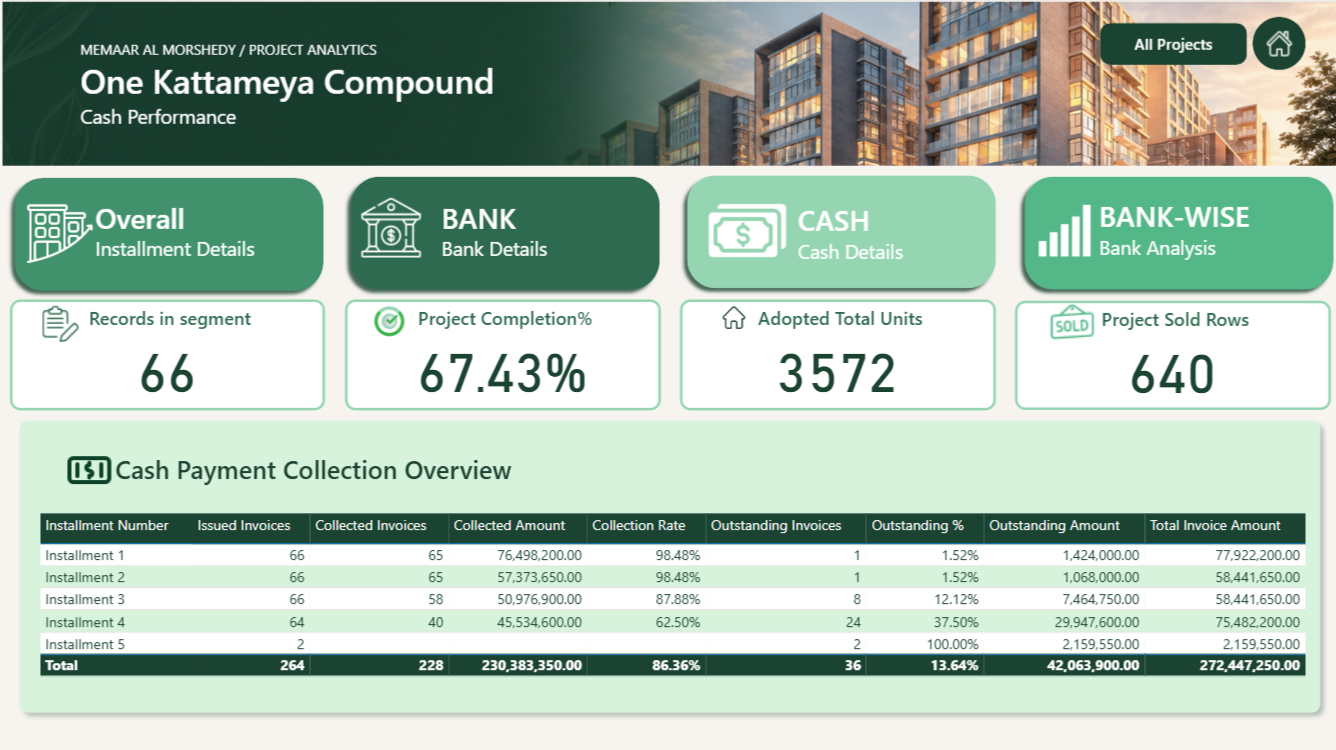

Layout of this report page (visuals, bound fields, positions):
{"tool":"powerbi","page":{"name":"Rihana Overall","canvas":[1280,720],"ordinal":8},"visuals":[{"type":"image","box":[0,0,1280.3,166],"z":0},{"type":"actionButton","box":[969.9,163.3,310.1,123.5],"z":0,"group":"g12"},{"type":"card","title":"Records in segment","fields":{"Values":["Fact_Installment.Records in current segment"]},"box":[12.3,288.2,300,105.7],"z":0,"group":"g1"},{"type":"shape","box":[11.9,403.6,1257.1,316.7],"z":0,"group":"g7"},{"type":"textbox","box":[74.1,35.7,548.9,96.1],"z":1000},{"type":"actionButton","box":[649.3,161.9,310.1,123.5],"z":1000,"group":"g11"},{"type":"image","box":[341.6,178.4,66.7,82.3],"z":1000,"group":"g4"},{"type":"image","box":[667.8,178.5,92.7,87.8],"z":1000,"group":"g6"},{"type":"image","box":[981.9,191.9,70,63.1],"z":1000,"group":"g9"},{"type":"image","box":[38.4,289.6,43.9,43.9],"z":1000,"group":"g1"},{"type":"tableEx","fields":{"Values":["Fact_Installment.Installment Number","Fact_Installment.Issued Invoices","Fact_Installment.Collected Invoices","Fact_Installment.Collected Amount","Fact_Installment.Collection Rate","Fact_Installment.Outstanding Invoices","Fact_Installment.Outstanding %","Fact_Installment.Total Invoice Amount"]},"box":[35.8,485.1,1217.9,221.4],"z":1000,"group":"g7"},{"type":"actionButton","title":"Back to Home","box":[1195.2,19.2,50.8,50.8],"z":2000},{"type":"actionButton","box":[8.2,164.7,310.1,123.5],"z":2000,"group":"g8"},{"type":"textbox","box":[1043.9,185.9,156.4,75.5],"z":2000,"group":"g9"},{"type":"textbox","box":[418,186.6,125.9,82.3],"z":2000,"group":"g4"},{"type":"textbox","box":[87.8,188.3,170.2,76.8],"z":2000,"group":"g13"},{"type":"textbox","box":[757,188.8,119.4,71.4],"z":2000,"group":"g6"},{"type":"textbox","box":[124,434.3,395.3,49],"z":2000,"group":"g7"},{"type":"shape","box":[1049.7,24.7,140,39.8],"z":3000},{"type":"actionButton","box":[328.8,163.3,310.1,123.5],"z":3000,"group":"g10"},{"type":"image","box":[62.2,411.6,57.6,84.1],"z":3000,"group":"g7"},{"type":"group","id":"g1","title":"Group 4","box":[12.3,288.2,300,105.7],"z":4000},{"type":"card","title":"Project Completion%","fields":{"Values":["Fact_Installment.Project Completion %"]},"box":[330.8,288.2,300.5,105.7],"z":4000,"group":"g2"},{"type":"group","id":"g2","title":"Group 5","box":[330.8,288.2,300.5,105.7],"z":5000},{"type":"card","title":"Project Sold Rows","fields":{"Values":["Fact_Installment.Total Sold Units"]},"box":[968.8,289.5,300.5,104.3],"z":5000,"group":"g5"},{"type":"group","id":"g3","title":"Group 6","box":[649.8,285.4,300.5,108.4],"z":6000},{"type":"card","title":"Adopted Total Units","fields":{"Values":["Fact_Installment.Total Units"]},"box":[649.8,288.1,300.5,105.7],"z":6000,"group":"g3"},{"type":"group","id":"g4","title":"Group 1","box":[341.6,178.4,202.4,90.6],"z":7000,"group":"g10"},{"type":"group","id":"g5","title":"Group 7","box":[968.8,285.4,300.5,108.4],"z":7000},{"type":"image","box":[348.5,289.6,48,39.8],"z":7020,"group":"g2"},{"type":"image","box":[997.6,285.4,52.1,52.1],"z":7022,"group":"g5"},{"type":"image","box":[686.1,285.4,31.6,39.8],"z":7023,"group":"g3"},{"type":"group","id":"g6","title":"Group 2","box":[667.8,178.5,208.6,87.8],"z":8000,"group":"g11"},{"type":"group","id":"g7","title":"Group 8","box":[11.9,403.6,1257.1,316.7],"z":8000},{"type":"group","id":"g8","title":"Group 11","box":[8.2,164.7,310.1,123.5],"z":9000},{"type":"group","id":"g9","title":"Group 3","box":[981.9,185.9,218.4,75.5],"z":9000,"group":"g12"},{"type":"group","id":"g10","title":"Group 12","box":[328.8,163.3,310.1,123.5],"z":10000},{"type":"group","id":"g11","title":"Group 13","box":[649.3,161.9,310.1,123.5],"z":11000},{"type":"group","id":"g12","title":"Group 14","box":[969.9,163.3,310.1,123.5],"z":12000},{"type":"group","id":"g13","title":"Group 1","box":[87.8,188.3,170.2,76.8],"z":12000,"group":"g14"},{"type":"image","box":[20.2,166.4,78.5,119.4],"z":13000,"group":"g14"},{"type":"group","id":"g14","title":"Group 10","box":[20.2,166.4,237.8,119.4],"z":13002,"group":"g15"},{"type":"group","id":"g15","title":"Group 9","box":[20.2,166.4,237.8,119.4],"z":16000,"group":"g8"}]}

Visuals, with their boxes in screenshot pixels (x1, y1, x2, y2), scaled from the page's 1280x720 canvas onto the 1336x750 screenshot:
image: l=0, t=0, r=1335, b=173
actionButton: l=1012, t=170, r=1335, b=299
"Records in segment" card: l=13, t=300, r=326, b=410
shape: l=12, t=420, r=1325, b=749
textbox: l=77, t=37, r=650, b=137
actionButton: l=678, t=169, r=1001, b=297
image: l=357, t=186, r=426, b=272
image: l=697, t=186, r=794, b=277
image: l=1025, t=200, r=1098, b=266
image: l=40, t=302, r=86, b=347
tableEx - Fact_Installment.Installment Number x Fact_Installment.Issued Invoices: l=37, t=505, r=1309, b=736
"Back to Home" actionButton: l=1247, t=20, r=1301, b=73
actionButton: l=9, t=172, r=332, b=300
textbox: l=1090, t=194, r=1253, b=272
textbox: l=436, t=194, r=568, b=280
textbox: l=92, t=196, r=269, b=276
textbox: l=790, t=197, r=915, b=271
textbox: l=129, t=452, r=542, b=503
shape: l=1096, t=26, r=1242, b=67
actionButton: l=343, t=170, r=667, b=299
image: l=65, t=429, r=125, b=516
"Group 4" group: l=13, t=300, r=326, b=410
"Project Completion%" card: l=345, t=300, r=659, b=410
"Group 5" group: l=345, t=300, r=659, b=410
"Project Sold Rows" card: l=1011, t=302, r=1325, b=410
"Group 6" group: l=678, t=297, r=992, b=410
"Adopted Total Units" card: l=678, t=300, r=992, b=410
"Group 1" group: l=357, t=186, r=568, b=280
"Group 7" group: l=1011, t=297, r=1325, b=410
image: l=364, t=302, r=414, b=343
image: l=1041, t=297, r=1096, b=352
image: l=716, t=297, r=749, b=339
"Group 2" group: l=697, t=186, r=915, b=277
"Group 8" group: l=12, t=420, r=1325, b=749
"Group 11" group: l=9, t=172, r=332, b=300
"Group 3" group: l=1025, t=194, r=1253, b=272
"Group 12" group: l=343, t=170, r=667, b=299
"Group 13" group: l=678, t=169, r=1001, b=297
"Group 14" group: l=1012, t=170, r=1335, b=299
"Group 1" group: l=92, t=196, r=269, b=276
image: l=21, t=173, r=103, b=298
"Group 10" group: l=21, t=173, r=269, b=298
"Group 9" group: l=21, t=173, r=269, b=298
